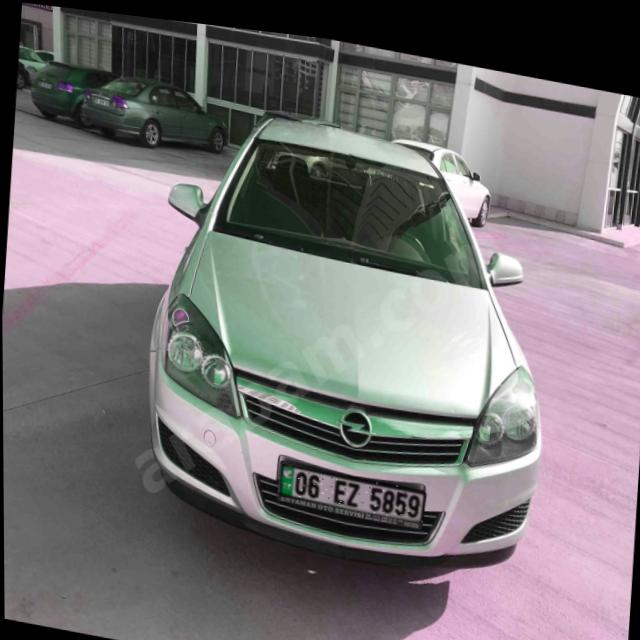license_plate: (279, 456, 425, 513)
